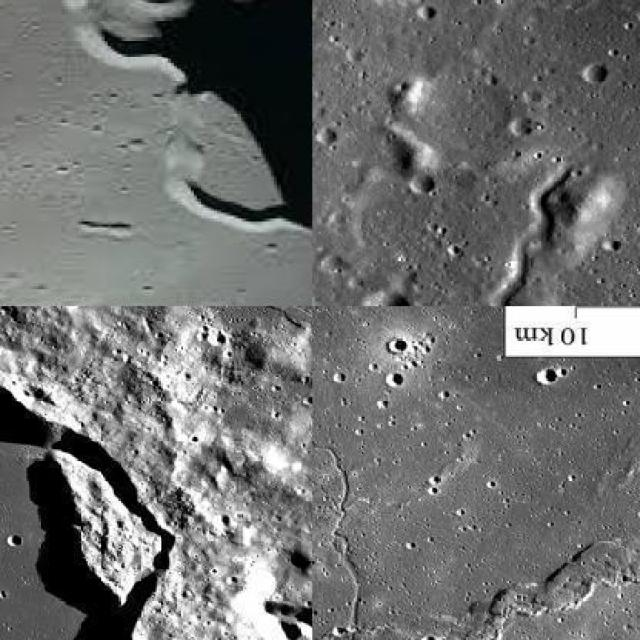rille: (312, 322, 638, 638), (0, 0, 311, 305), (118, 306, 311, 512), (488, 164, 582, 304)
